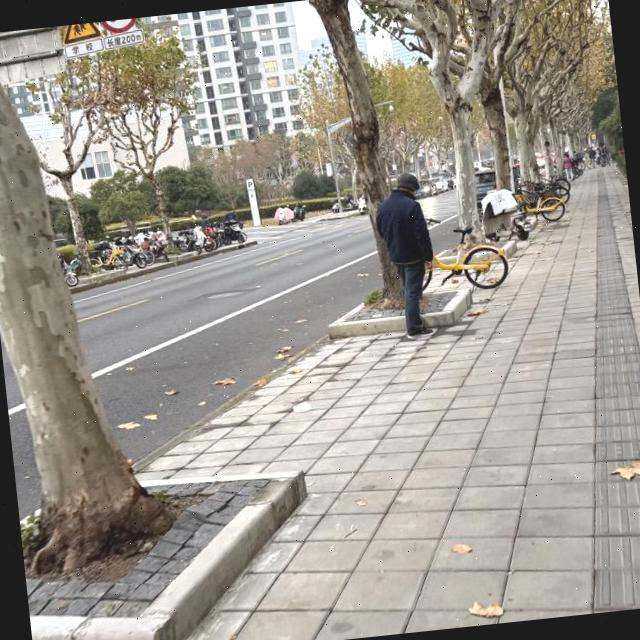curb: (29, 470, 306, 640), (136, 335, 326, 469), (70, 241, 256, 294), (328, 302, 405, 339), (422, 288, 472, 328), (501, 241, 517, 257)
